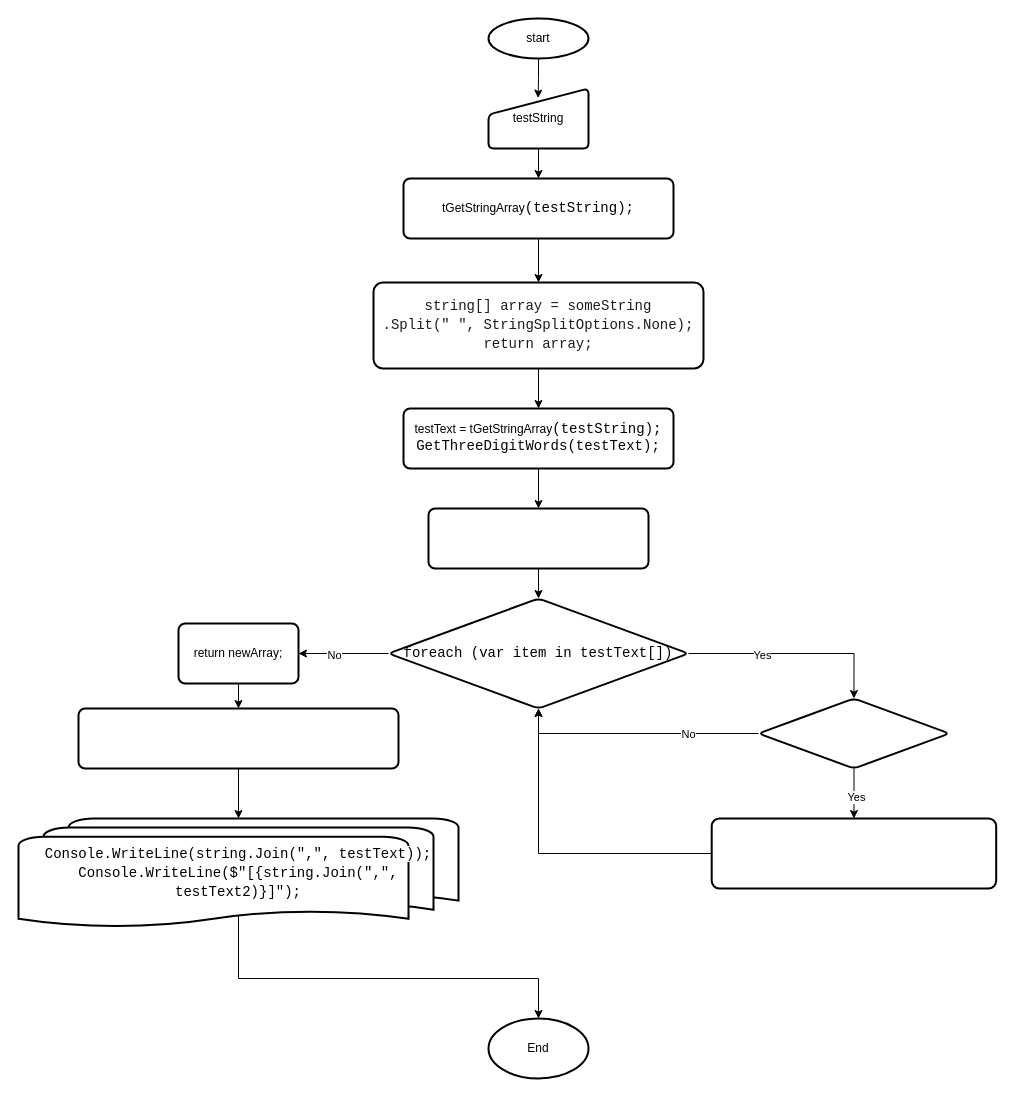
The diagram is 1014 pixels wide and 1096 high, and some of its shapes have lost their labels. The shapes that lost their labels are listed below. From the top down, each one's centre as x and y in pixels, then its label:
(538,538): newArray = {}; int i=0;
(238,738): testText2 = GetThreeDigitWords(testText);
(853,733): item.Length <4
(853,853): Array.Resize(ref newArray, i+1); newArray[i] = item; i++;
